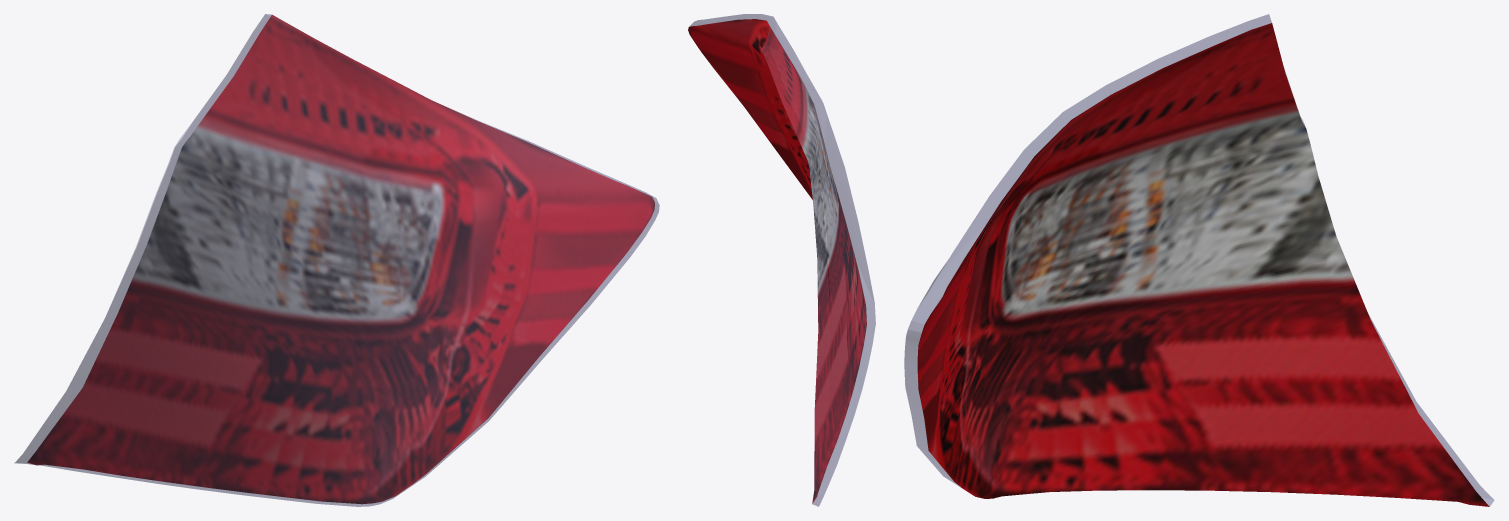
The picture shows the model from 3 angles, left to right: view 1: azimuth 30°, elevation 25°; view 2: azimuth 150°, elevation 25°; view 3: azimuth 270°, elevation 25°; orthographic projection. The views are drawn at different scales.
Parts seen in each view (by area): view 1: H033_541C_R_H033_541C_R_2_DTaSI, H033_541C_R_1_N_H033_541C_R; view 2: H033_541C_R_1_N_H033_541C_R, H033_541C_R_H033_541C_R_2_DTaSI; view 3: H033_541C_R_1_N_H033_541C_R, H033_541C_R_H033_541C_R_2_DTaSI.
Boxes of the visible parts, x1,y1,x2,y2 form: H033_541C_R_H033_541C_R_2_DTaSI: (15, 14, 659, 506); H033_541C_R_1_N_H033_541C_R: (27, 15, 654, 504); H033_541C_R_1_N_H033_541C_R: (688, 19, 866, 503); H033_541C_R_H033_541C_R_2_DTaSI: (689, 14, 875, 506); H033_541C_R_1_N_H033_541C_R: (917, 23, 1489, 506); H033_541C_R_H033_541C_R_2_DTaSI: (904, 14, 1494, 506).
Size of the model in its own units: 31.33 by 35.56 by 32.83.
